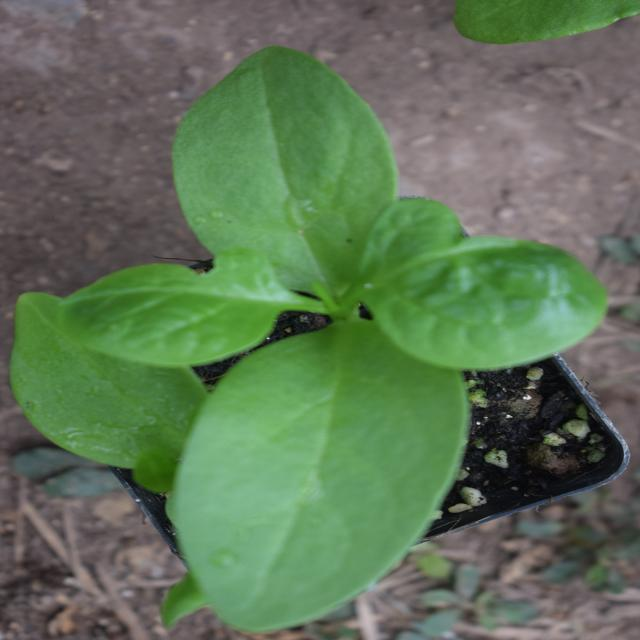Ceylon spinach: (80, 68, 628, 572)
